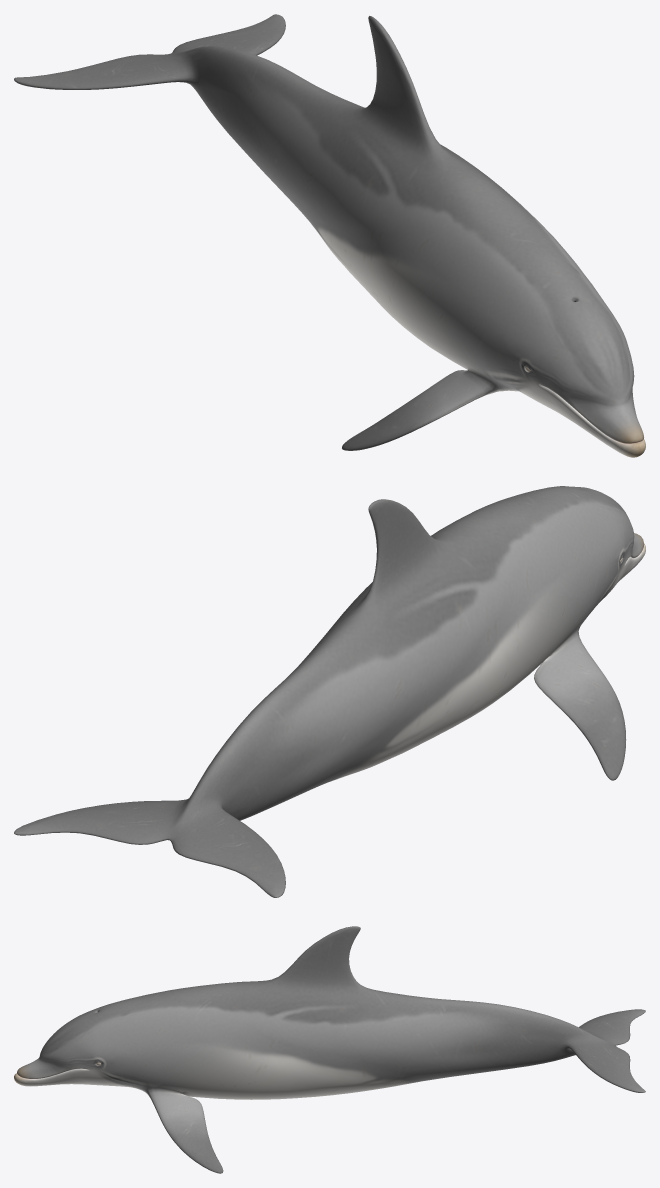
Rendered from dolphin.glb.
3 renders of one model, top to bottom at view 1: azimuth 30°, elevation 25°; view 2: azimuth 150°, elevation 25°; view 3: azimuth 270°, elevation 25°, orthographic. The views are drawn at different scales.
Visible parts, largest first — view 1: dolphin_mesh; view 2: dolphin_mesh; view 3: dolphin_mesh.
Boxes of the visible parts, <box> form: dolphin_mesh: <box>14,14,645,457</box>; dolphin_mesh: <box>14,486,645,897</box>; dolphin_mesh: <box>14,926,645,1173</box>.
Bounding box in the file's own units: 0.9764 × 1.1 × 3.06.
2 materials, 1 textured.
